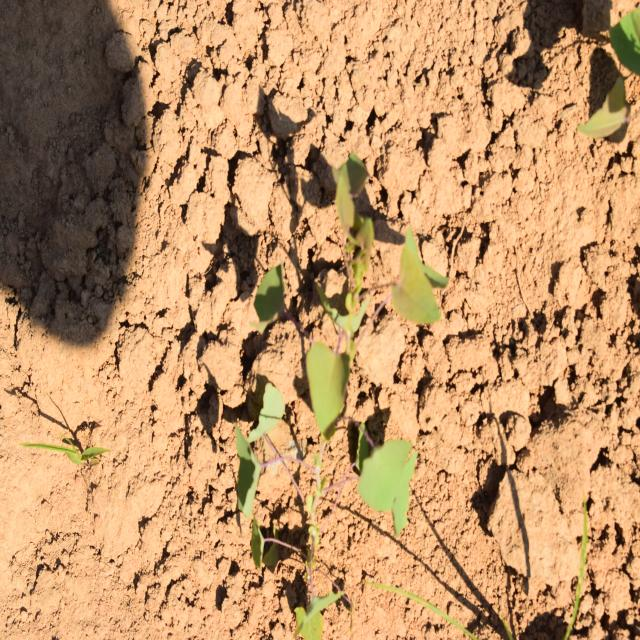Asiatic_Smartweed: (232, 340, 436, 540), (243, 171, 450, 365)
